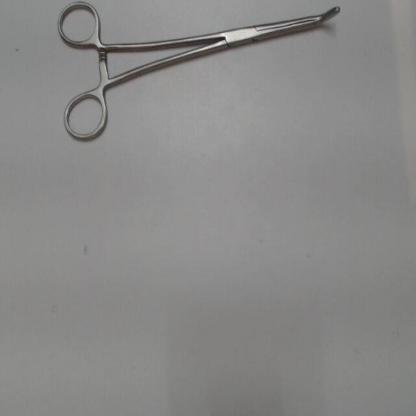Lahey Forceps: (53, 0, 345, 148)
